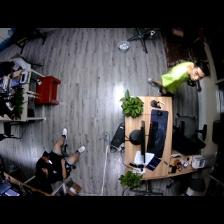normal: (32, 128, 84, 177), (149, 62, 208, 98), (3, 56, 36, 75)
